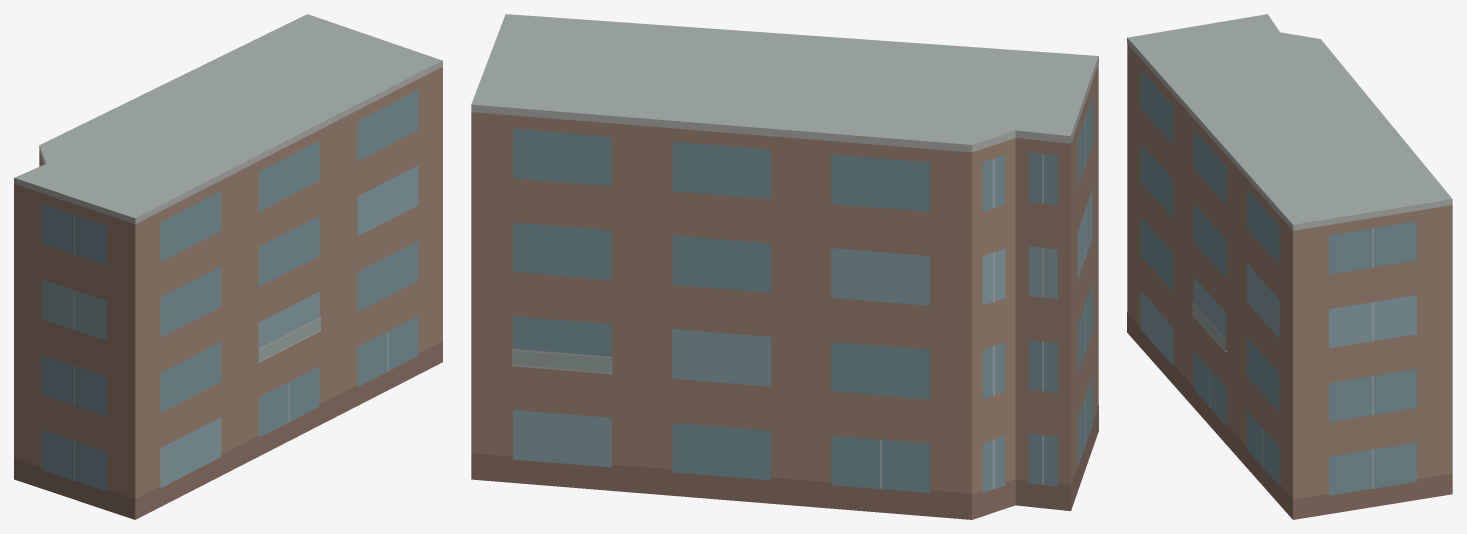
File: survey-upis-32692871.glb
3 renders of one model, left to right at view 1: azimuth 30°, elevation 25°; view 2: azimuth 150°, elevation 25°; view 3: azimuth 270°, elevation 25°, orthographic. The views are drawn at different scales.
Visible parts, largest first — view 1: survey-upis-32692871.tmp; view 2: survey-upis-32692871.tmp; view 3: survey-upis-32692871.tmp.
Boxes of the visible parts, <box> form: survey-upis-32692871.tmp: <box>14,14,442,519</box>; survey-upis-32692871.tmp: <box>471,14,1098,519</box>; survey-upis-32692871.tmp: <box>1127,14,1452,519</box>.
Bounding box in the file's own units: 18.71 × 12.2 × 12.21.
